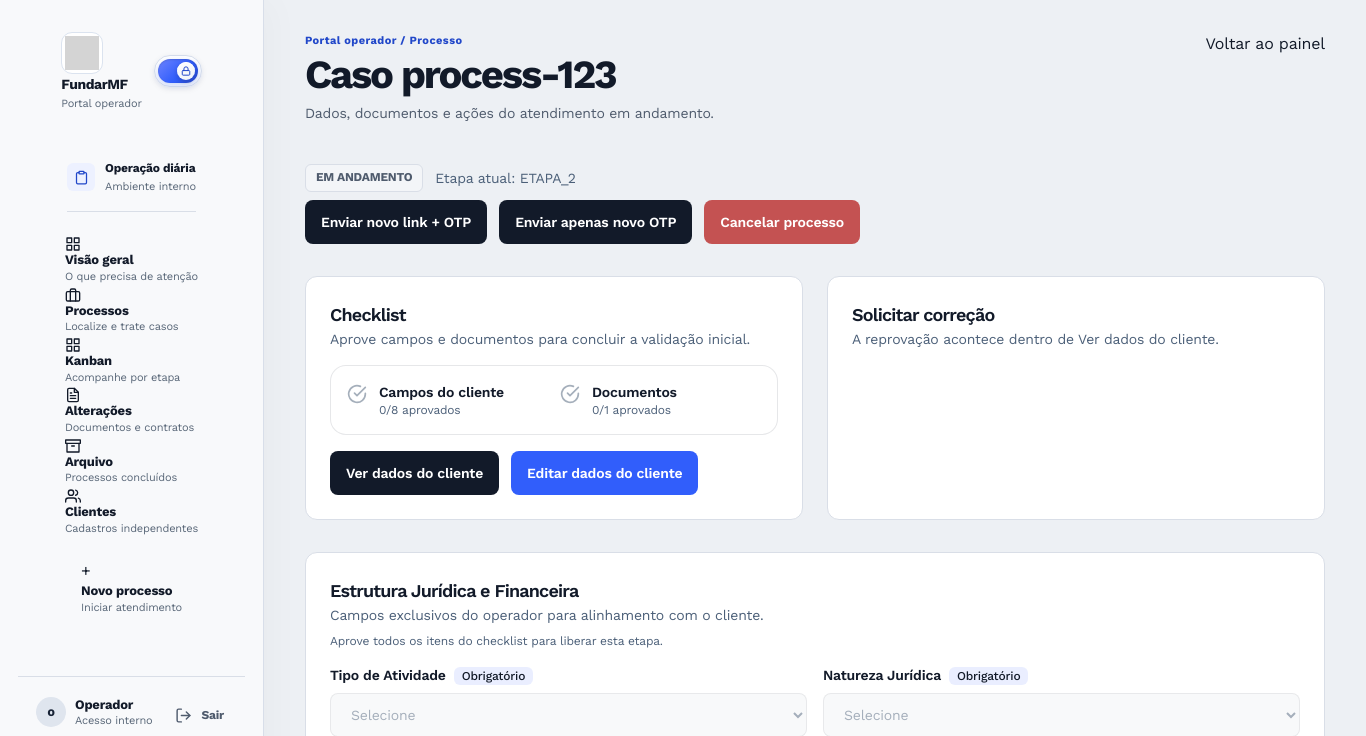
Test case: OperatorProcess › exibe razão social e CNPJ quando o sócio é pessoa jurídica
This screenshot has width=1366, height=736.
Click the button "Ver dados do cliente".
click(415, 473)  # box [330,451,499,495]
(page scrolled)
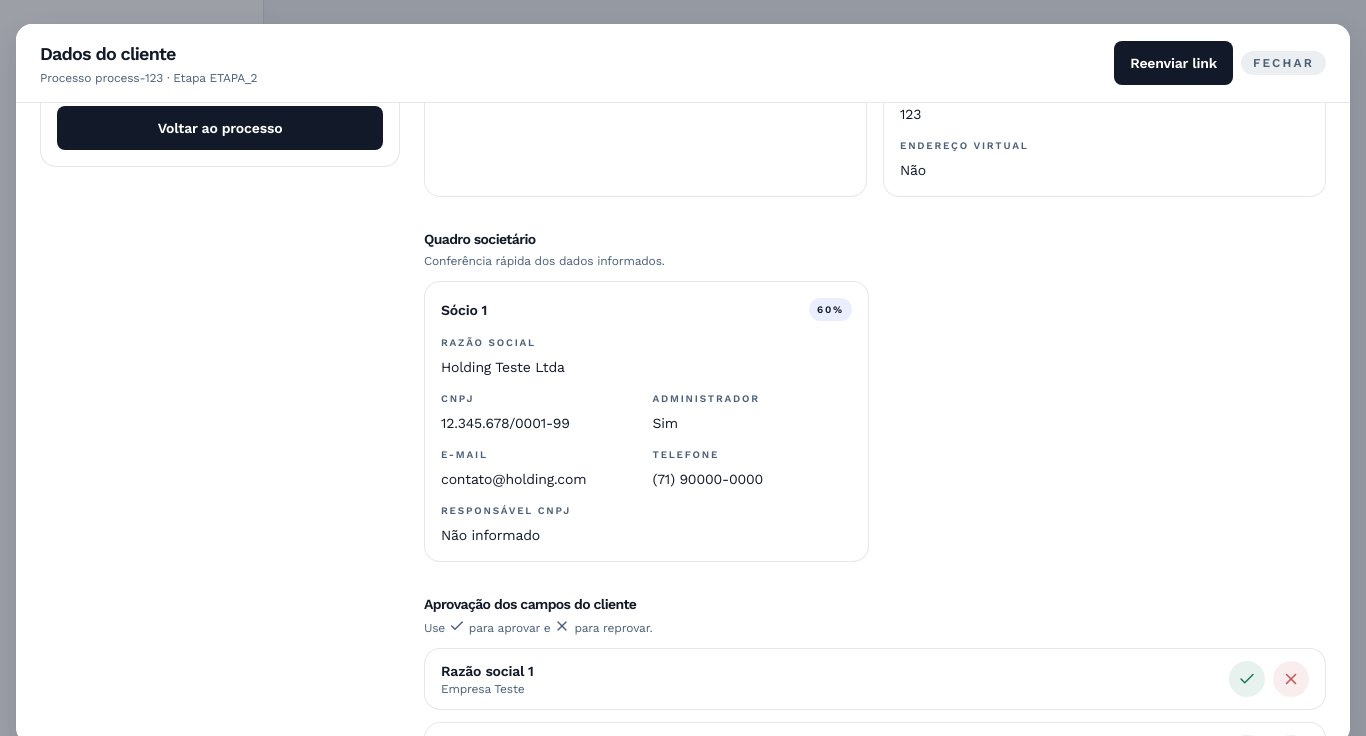
Now the text "Holding Teste Ltda" is shown, box [441,359,565,375]
Now the text "12.345.678/0001-99" is shown, box [441,415,570,431]
